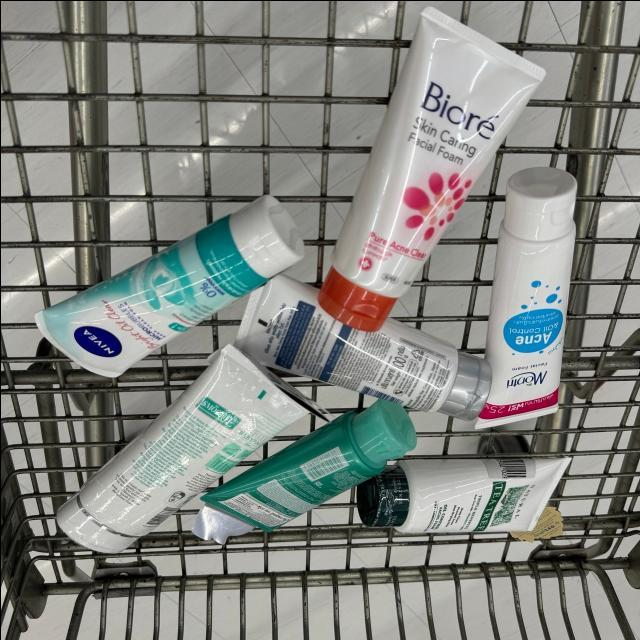Squeeze Tube: (316, 12, 553, 332), (54, 342, 314, 558), (37, 193, 308, 382), (234, 277, 491, 423), (197, 398, 429, 540), (481, 166, 578, 428), (356, 458, 573, 532)
